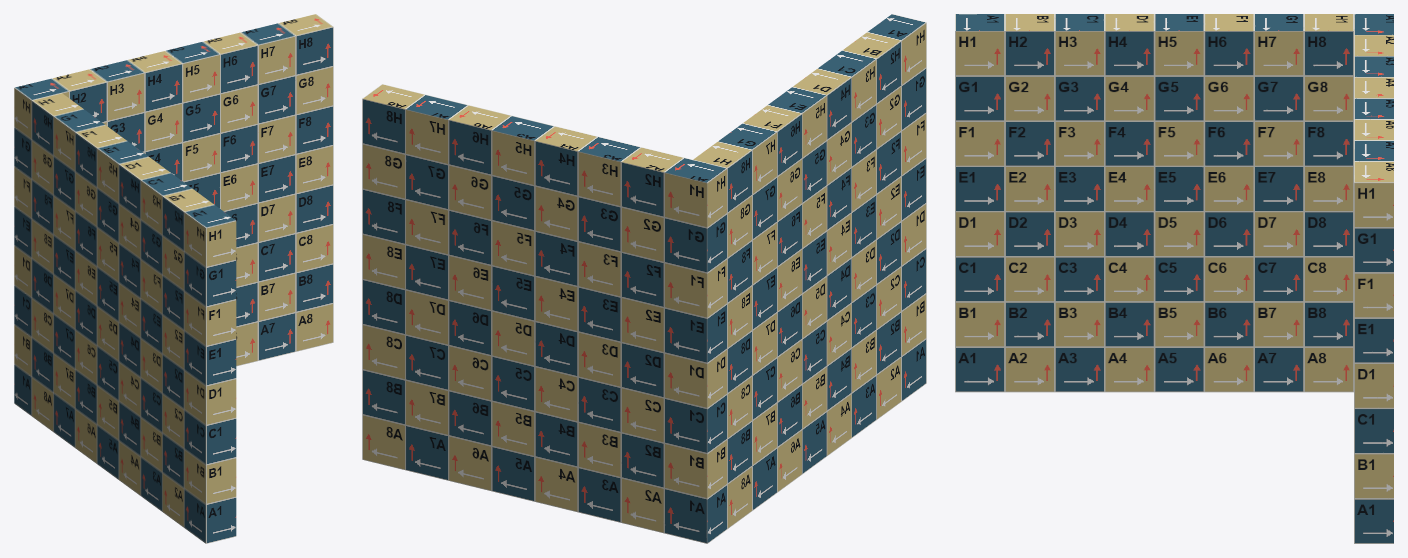
The model's file is WALL_OutsideCorner.fbx.
3 renders of one model, left to right at view 1: azimuth 30°, elevation 25°; view 2: azimuth 150°, elevation 25°; view 3: azimuth 270°, elevation 25°, orthographic. The views are drawn at different scales.
Parts seen in each view (by area): view 1: WALL_OutsideCorner; view 2: WALL_OutsideCorner; view 3: WALL_OutsideCorner.
Part boxes in pixels (x1,y1,x2,y2): WALL_OutsideCorner: (14, 14, 333, 543); WALL_OutsideCorner: (362, 14, 926, 543); WALL_OutsideCorner: (955, 14, 1393, 543).
Size of the model in its own units: 200 by 200 by 220.
Materials: 1 (1 with a texture image).
